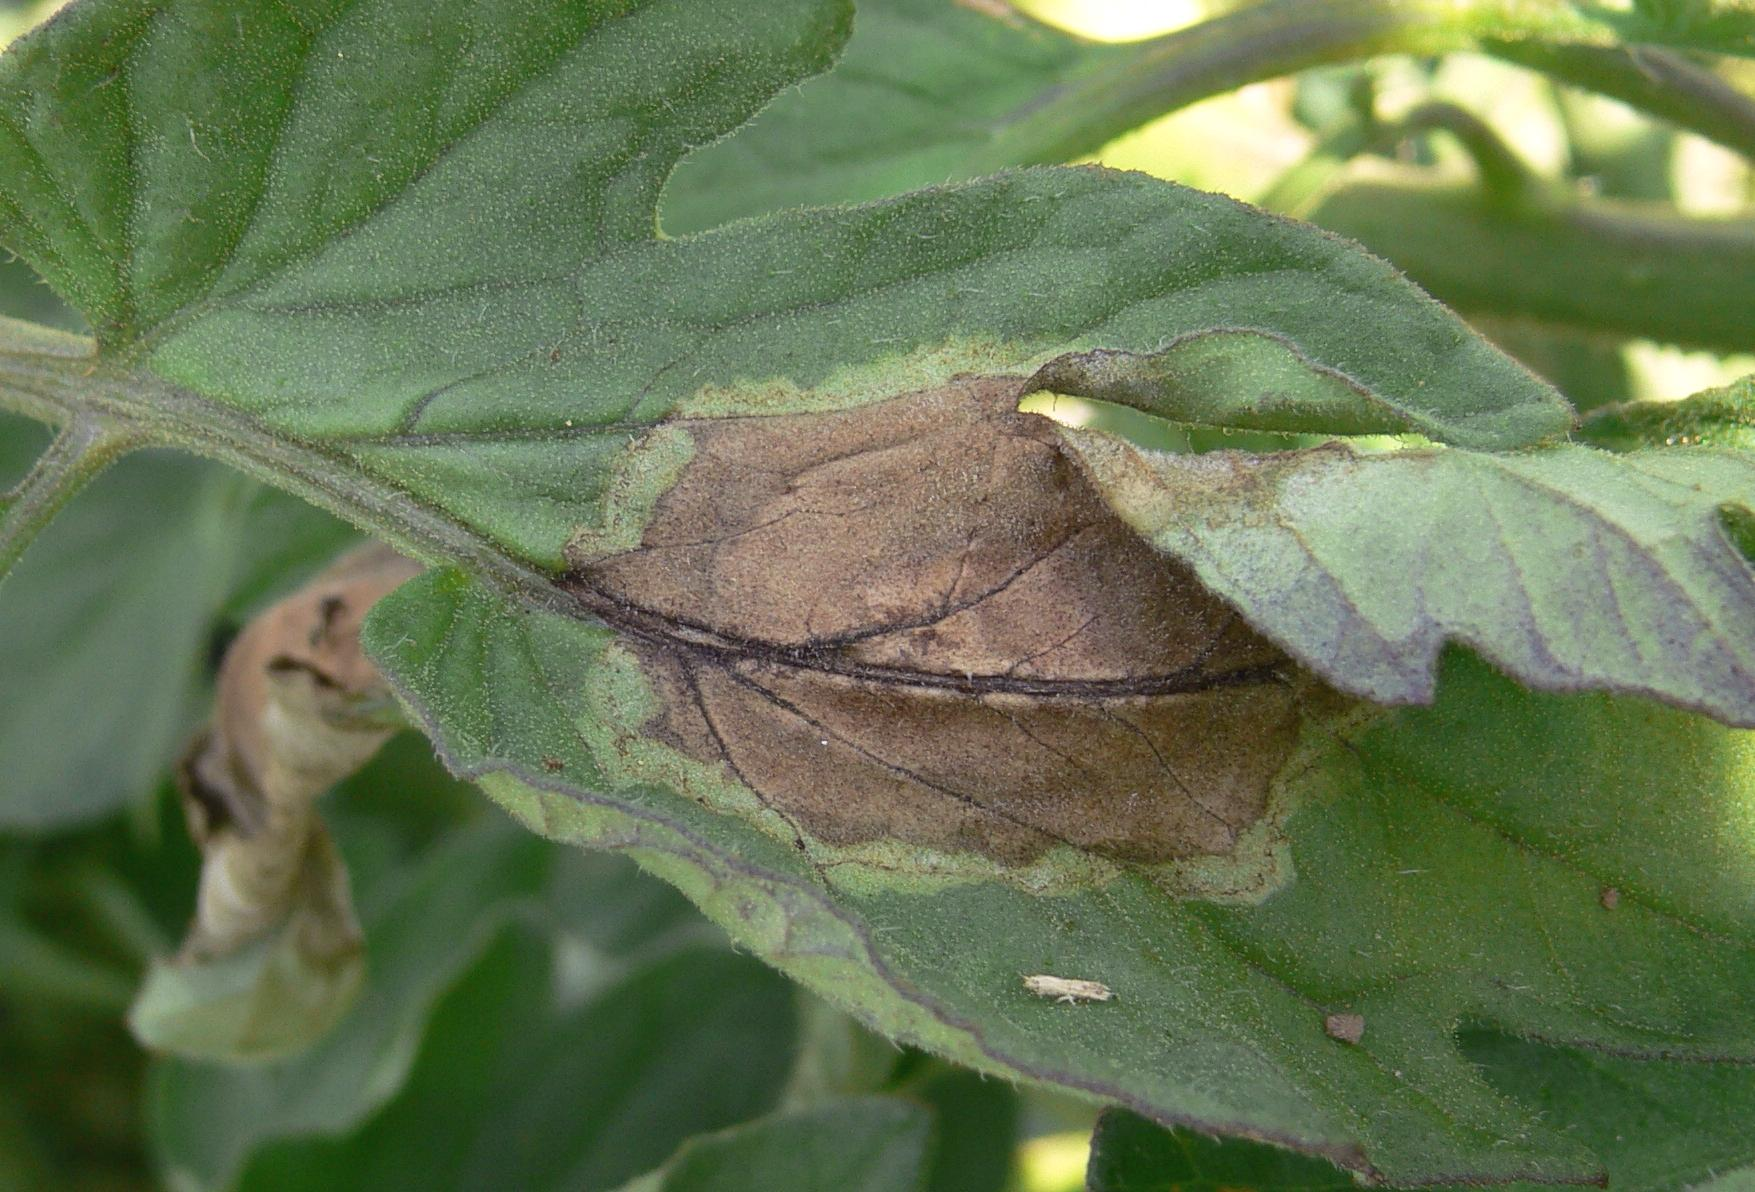Tomato leaf late blight: (47, 44, 1730, 1164)
